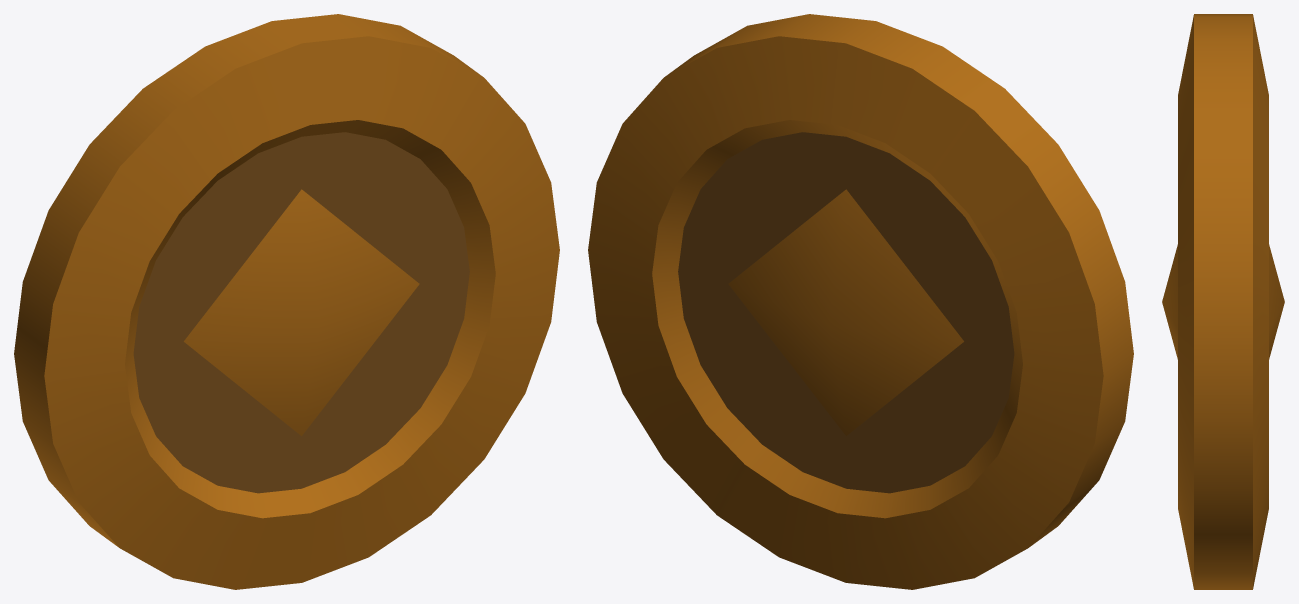
File: Coin.gltf
The picture shows the model from 3 angles, left to right: view 1: azimuth 30°, elevation 25°; view 2: azimuth 150°, elevation 25°; view 3: azimuth 270°, elevation 25°; orthographic projection. The views are drawn at different scales.
Parts seen in each view (by area): view 1: Coin; view 2: Coin; view 3: Coin.
Boxes of the visible parts, <box> form: Coin: <box>14,14,559,589</box>; Coin: <box>588,14,1133,589</box>; Coin: <box>1162,14,1284,589</box>.
Size of the model in its own units: 0.0683 by 0.0683 by 0.0145.
